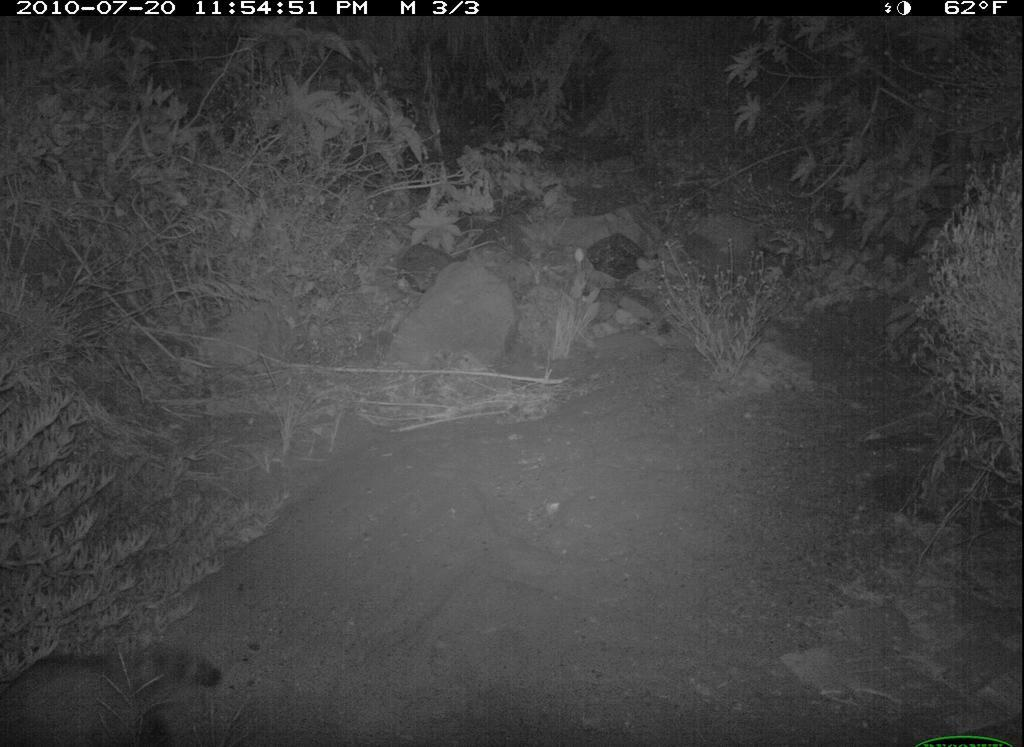raccoon: (3, 629, 244, 745)
